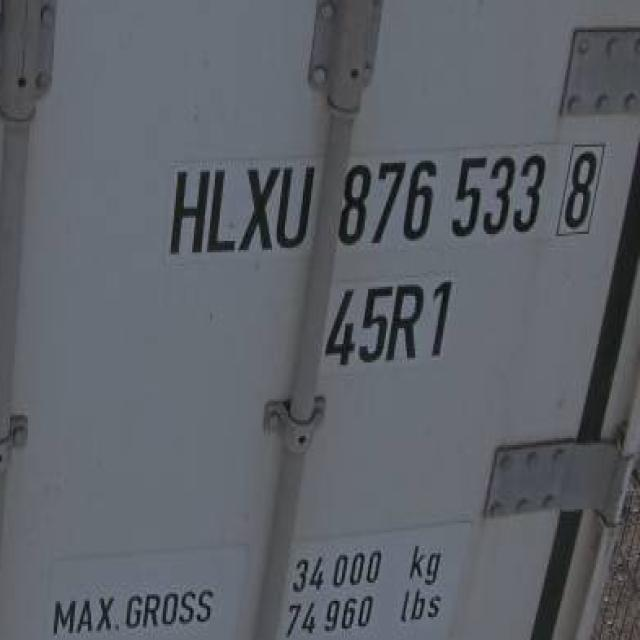dv: (555, 132, 604, 245)
owner: (166, 148, 320, 270)
serial: (337, 143, 547, 251)
size: (318, 274, 460, 375)
